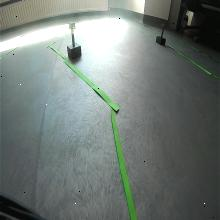green: (68, 21, 76, 30)
